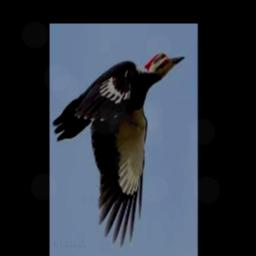Woodpecker: (52, 51, 185, 248)
